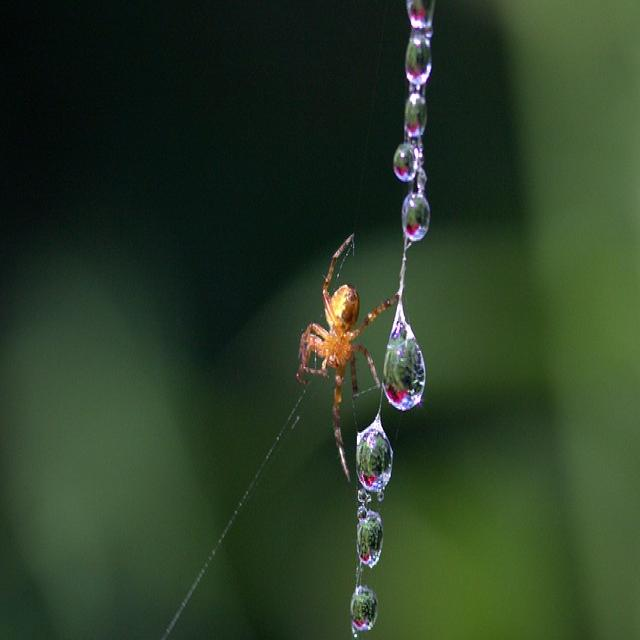spyder: (296, 235, 398, 481)
